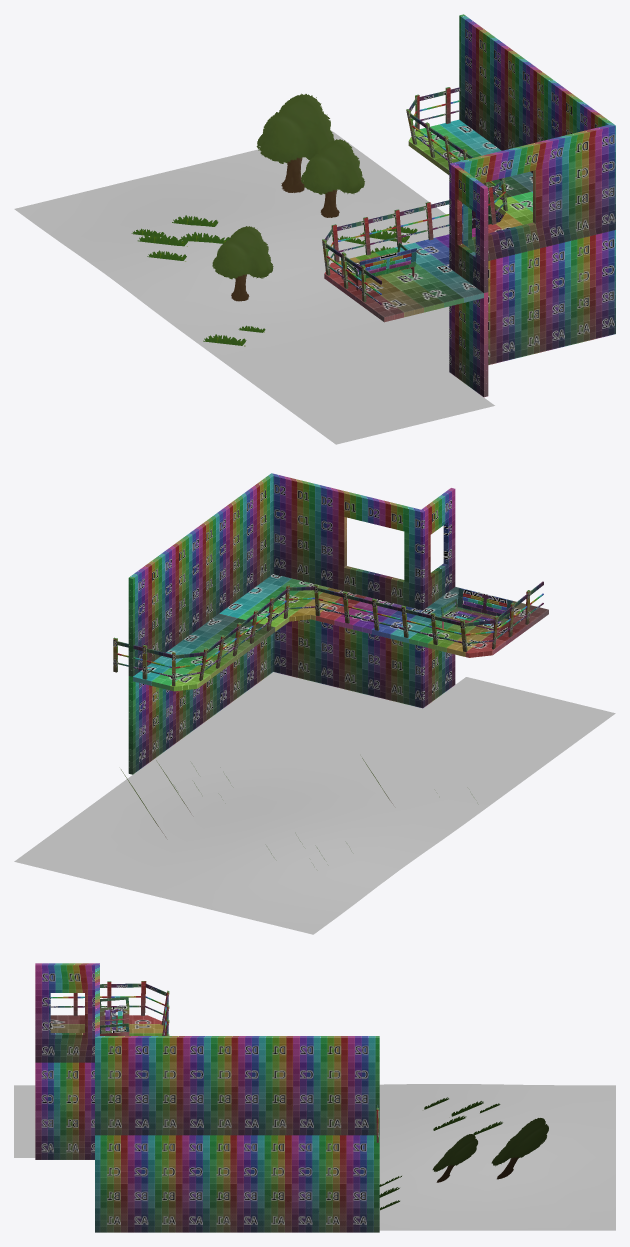
Rendered from outside.obj.
The picture shows the model from 3 angles, top to bottom: view 1: azimuth 30°, elevation 25°; view 2: azimuth 150°, elevation 25°; view 3: azimuth 270°, elevation 25°; orthographic projection. The views are drawn at different scales.
Visible parts, largest first — view 1: grass_Plane, Plane.003, Plane.004, balcony_floor_Plane.001, balcony_fence_Plane.002, tree.001_Plane.018, tree_Plane.017, tree.002_Plane.019, bench_Cube.001; view 2: grass_Plane, Plane.003, Plane.004, balcony_floor_Plane.001, balcony_fence_Plane.002, bench_Cube.001; view 3: grass_Plane, Plane.004, Plane.003, tree.001_Plane.018, balcony_fence_Plane.002, balcony_floor_Plane.001, bench_Cube.001, tree_Plane.017.
Part boxes in pixels (x1,y1,x2,y2): grass_Plane: [14, 131, 494, 444]; Plane.003: [449, 14, 615, 292]; Plane.004: [449, 205, 615, 397]; balcony_floor_Plane.001: [324, 119, 532, 322]; balcony_fence_Plane.002: [322, 87, 507, 304]; tree.001_Plane.018: [256, 93, 334, 192]; tree_Plane.017: [301, 139, 364, 217]; tree.002_Plane.019: [212, 226, 273, 301]; bench_Cube.001: [341, 242, 416, 290]; grass_Plane: [14, 672, 615, 934]; Plane.003: [128, 473, 455, 676]; Plane.004: [128, 619, 455, 774]; balcony_floor_Plane.001: [133, 574, 548, 691]; balcony_fence_Plane.002: [113, 581, 543, 686]; bench_Cube.001: [441, 588, 512, 640]; grass_Plane: [14, 1084, 615, 1230]; Plane.004: [35, 1062, 379, 1232]; Plane.003: [35, 963, 379, 1135]; tree.001_Plane.018: [491, 1118, 548, 1179]; balcony_fence_Plane.002: [50, 981, 378, 1142]; balcony_floor_Plane.001: [50, 1015, 163, 1035]; bench_Cube.001: [100, 997, 129, 1035]; tree_Plane.017: [432, 1134, 477, 1182].
Bounding box in the file's own units: 8.53 × 5.05 × 14.
